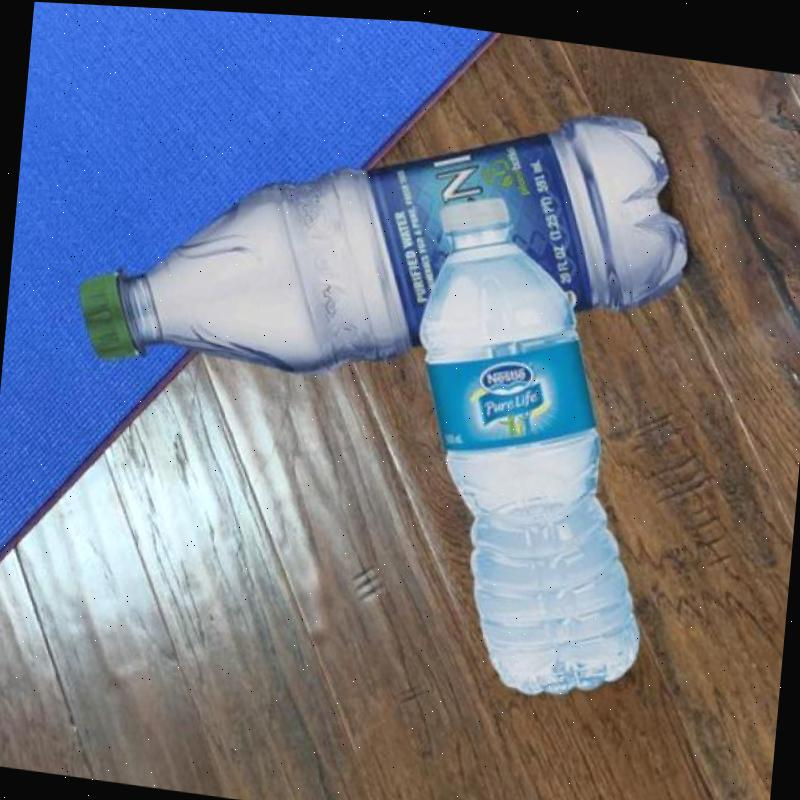botella: (75, 42, 698, 429), (388, 183, 678, 706)
